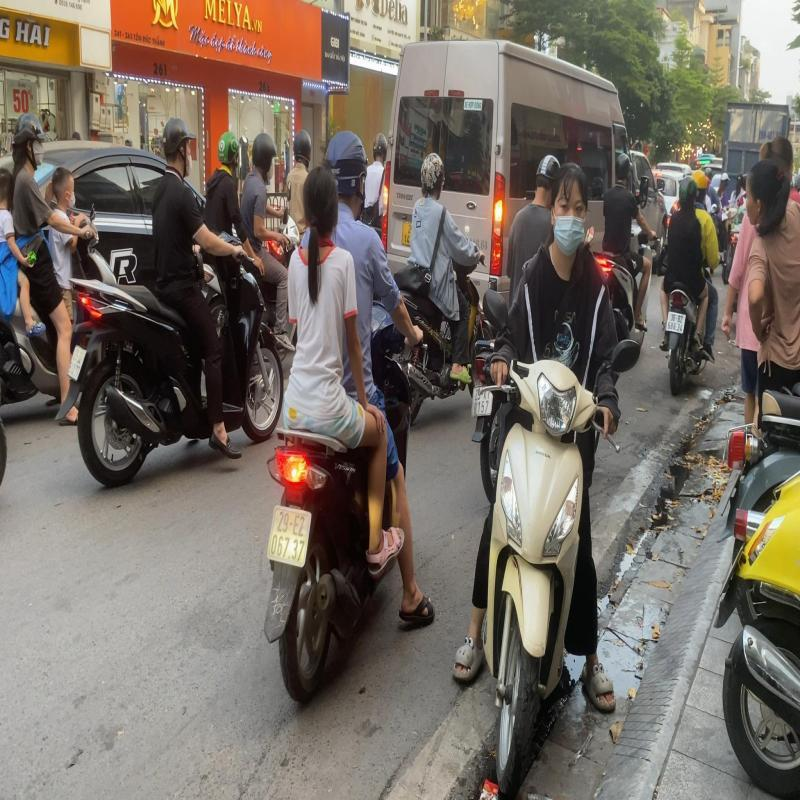helmet: (326, 128, 368, 214)
licenseplate: (263, 500, 314, 571)
motorcyclist: (258, 125, 438, 710)
nohelmet: (303, 164, 338, 244)
